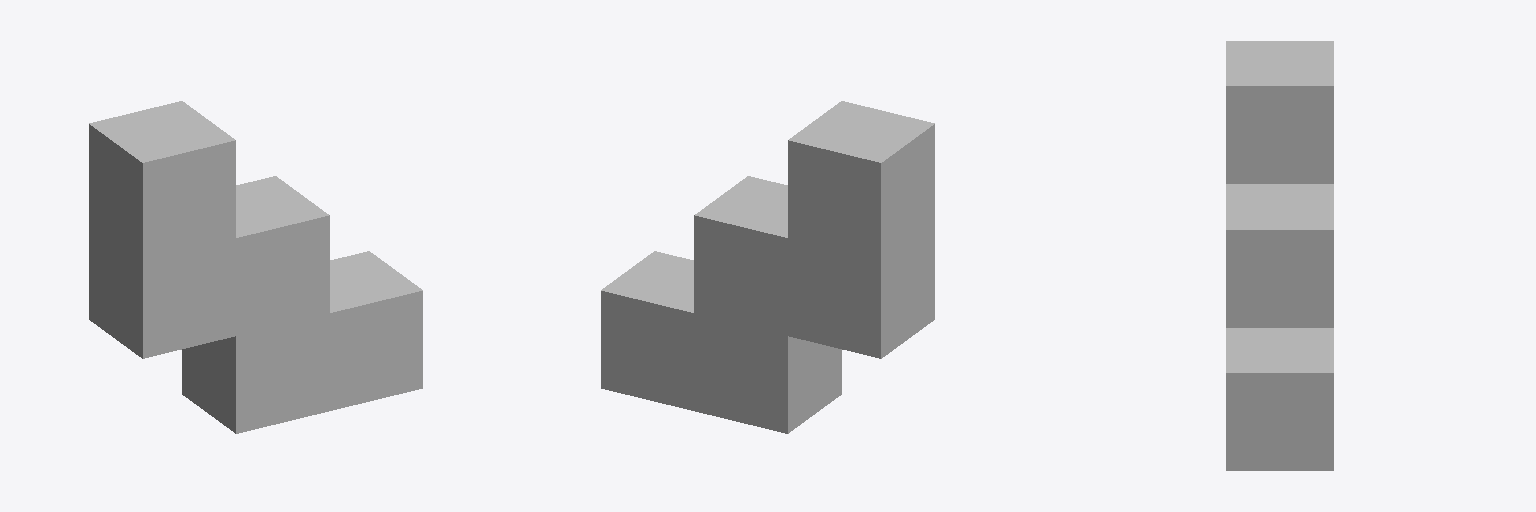
The model's file is TomatoMan Arms.obj.
3 views of the same model, side by side, from view 1: azimuth 30°, elevation 25°; view 2: azimuth 150°, elevation 25°; view 3: azimuth 270°, elevation 25° (orthographic).
Size of the model in its own units: 3 by 3 by 1.